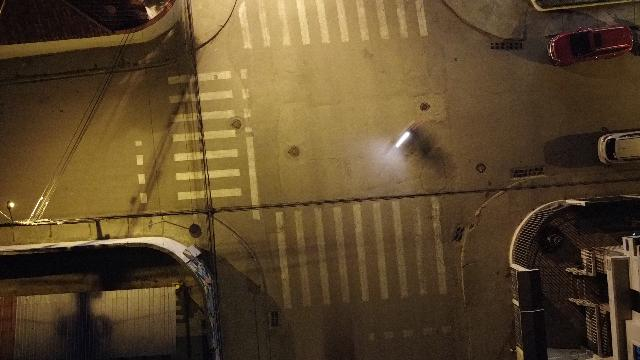Vehiculo: (548, 23, 634, 67), (596, 128, 640, 168)
